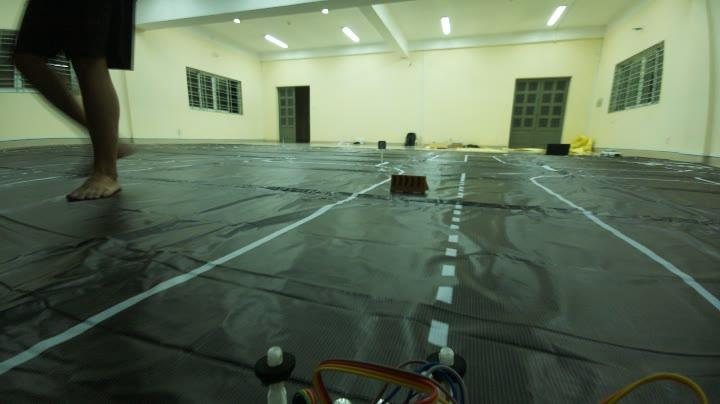roadblock: (384, 169, 430, 204)
